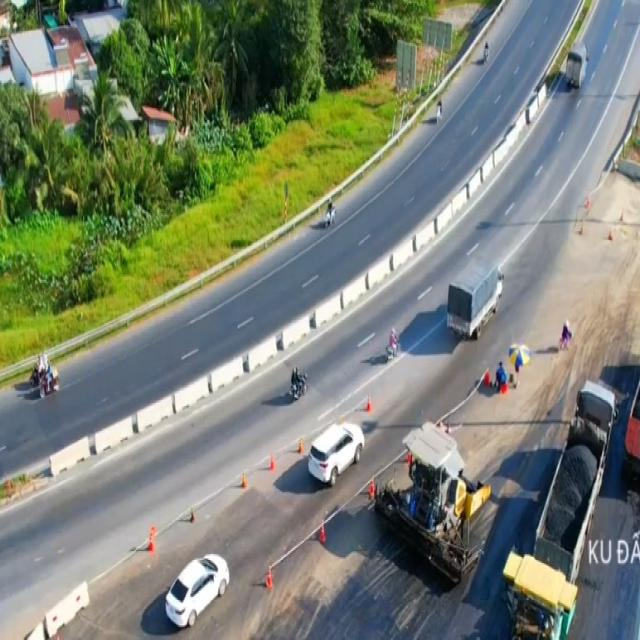car: (158, 556, 232, 639), (310, 426, 364, 494)
motorbike: (288, 368, 308, 400), (383, 327, 400, 359), (323, 195, 336, 226)
truck: (446, 255, 504, 338), (566, 39, 587, 90)
